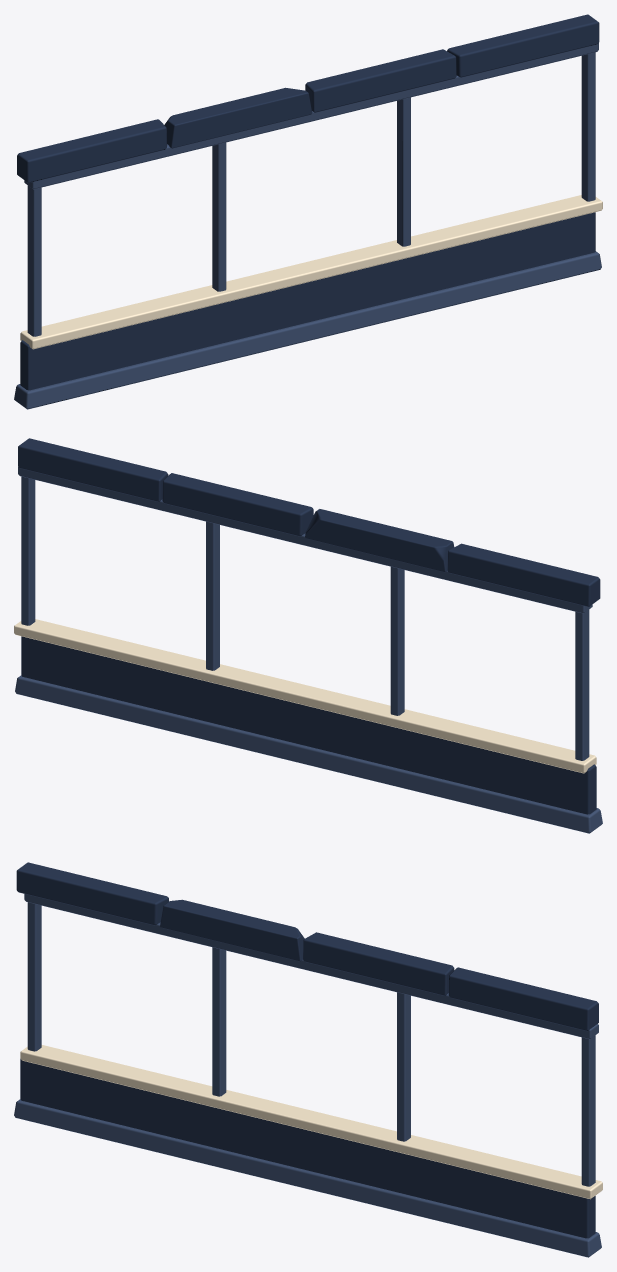
Rendered from control_partition.glb.
3 views of the same model, one above another, from view 1: azimuth 30°, elevation 25°; view 2: azimuth 150°, elevation 25°; view 3: azimuth 330°, elevation 25° (orthographic).
Parts seen in each view (by area): view 1: control_partition; view 2: control_partition; view 3: control_partition.
Part boxes in pixels (<box>): control_partition: <box>14,14,602,409</box>; control_partition: <box>14,438,602,833</box>; control_partition: <box>14,862,602,1257</box>.
Bounding box in the file's own units: 7.82 × 3.22 × 0.3241.
